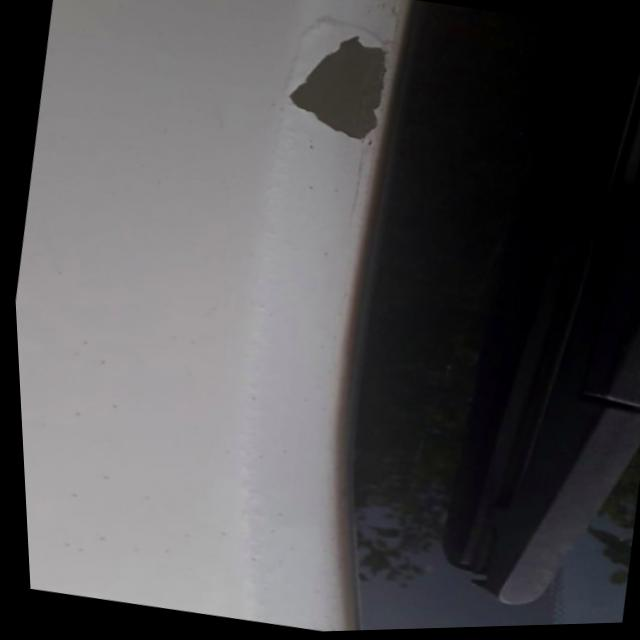Paint-fading: (276, 33, 393, 150)
